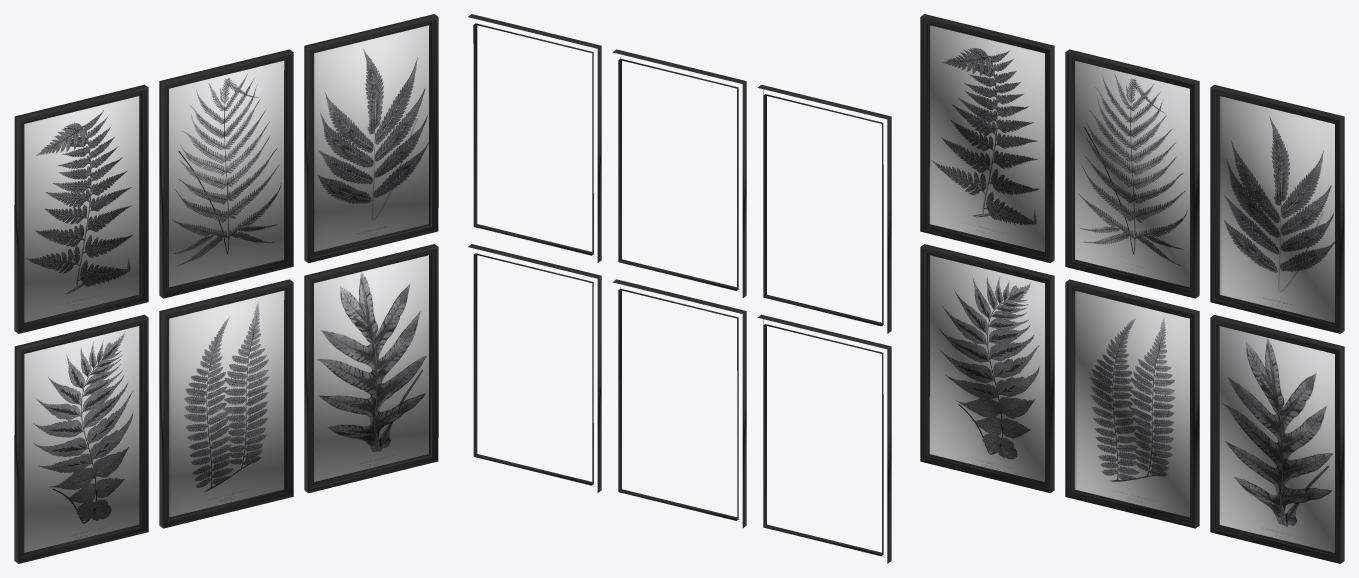
Rendered from quadri-ingresso.glb.
3 renders of one model, left to right at view 1: azimuth 30°, elevation 25°; view 2: azimuth 150°, elevation 25°; view 3: azimuth 330°, elevation 25°, orthographic.
Visible parts, largest first — view 1: quadro 4, quadro 1, quadro 5, quadro 2, quadro 6, quadro 3, cornice 1, cornice 4, cornice 2, cornice 3, cornice 5, cornice 6; view 2: cornice 3, cornice 6, cornice 2, cornice 1, cornice 4, cornice 5; view 3: quadro 6, quadro 5, quadro 3, quadro 4, quadro 1, quadro 2, cornice 2, cornice 3, cornice 1, cornice 5, cornice 6, cornice 4.
Boxes of the visible parts, left/top/right/bottom form: quadro 4: left=24, top=326, right=139, bottom=552; quadro 1: left=24, top=96, right=139, bottom=322; quadro 5: left=169, top=290, right=284, bottom=517; quadro 2: left=169, top=60, right=284, bottom=287; quadro 6: left=314, top=255, right=428, bottom=481; quadro 3: left=314, top=25, right=428, bottom=251; cornice 1: left=14, top=84, right=148, bottom=333; cornice 4: left=14, top=314, right=148, bottom=563; cornice 2: left=159, top=49, right=293, bottom=298; cornice 3: left=304, top=14, right=438, bottom=263; cornice 5: left=159, top=279, right=293, bottom=528; cornice 6: left=304, top=244, right=438, bottom=493; cornice 3: left=468, top=14, right=601, bottom=262; cornice 6: left=468, top=244, right=601, bottom=492; cornice 2: left=612, top=49, right=746, bottom=297; cornice 1: left=757, top=84, right=891, bottom=333; cornice 4: left=757, top=314, right=891, bottom=563; cornice 5: left=613, top=279, right=746, bottom=527; quadro 6: left=1219, top=326, right=1334, bottom=552; quadro 5: left=1074, top=291, right=1189, bottom=517; quadro 3: left=1219, top=96, right=1334, bottom=322; quadro 4: left=929, top=255, right=1044, bottom=481; quadro 1: left=929, top=25, right=1044, bottom=251; quadro 2: left=1075, top=60, right=1189, bottom=287; cornice 2: left=1065, top=49, right=1199, bottom=298; cornice 3: left=1210, top=85, right=1344, bottom=333; cornice 1: left=920, top=14, right=1054, bottom=263; cornice 5: left=1065, top=279, right=1199, bottom=528; cornice 6: left=1210, top=315, right=1344, bottom=563; cornice 4: left=920, top=244, right=1054, bottom=493.
Size of the model in its own units: 2.38 by 2.41 by 0.0417.
Materials: 7 (6 with a texture image).
